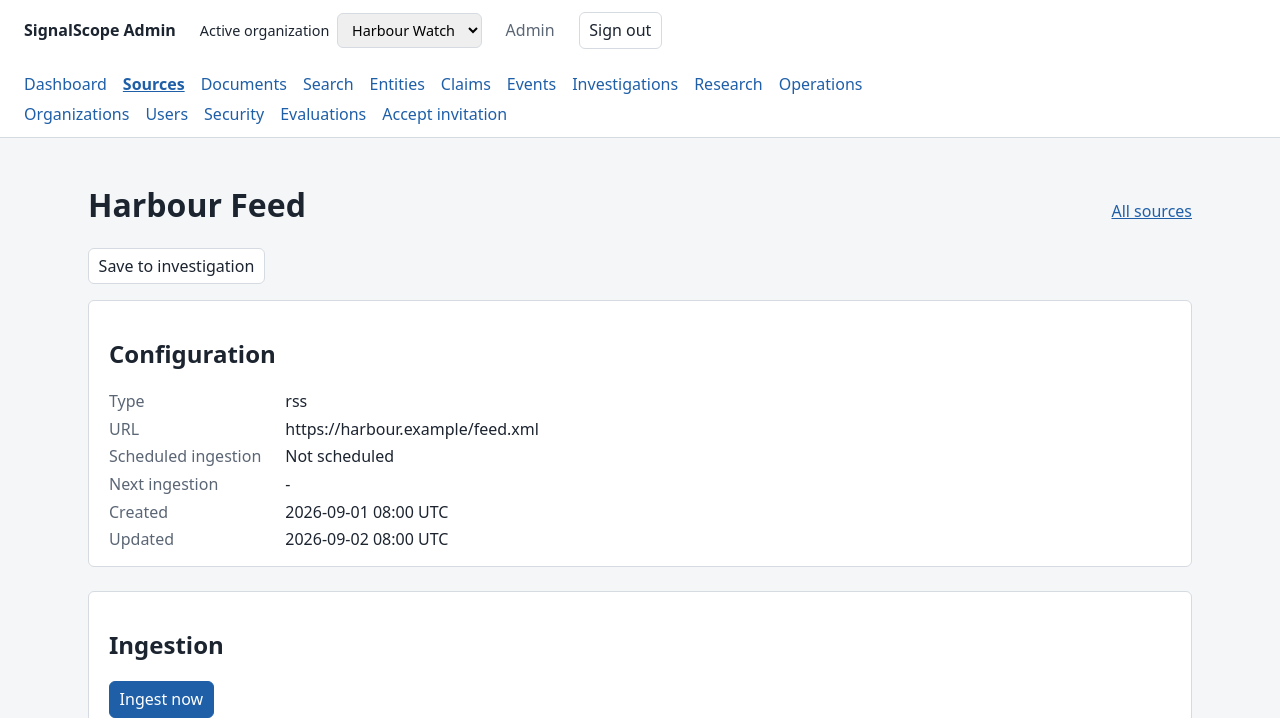
Scenario: save to investigation › saves from /sources/s-1
The image size is (1280, 718).
Click the button "Save to investigation".
click(176, 266)  # box [88,248,265,284]
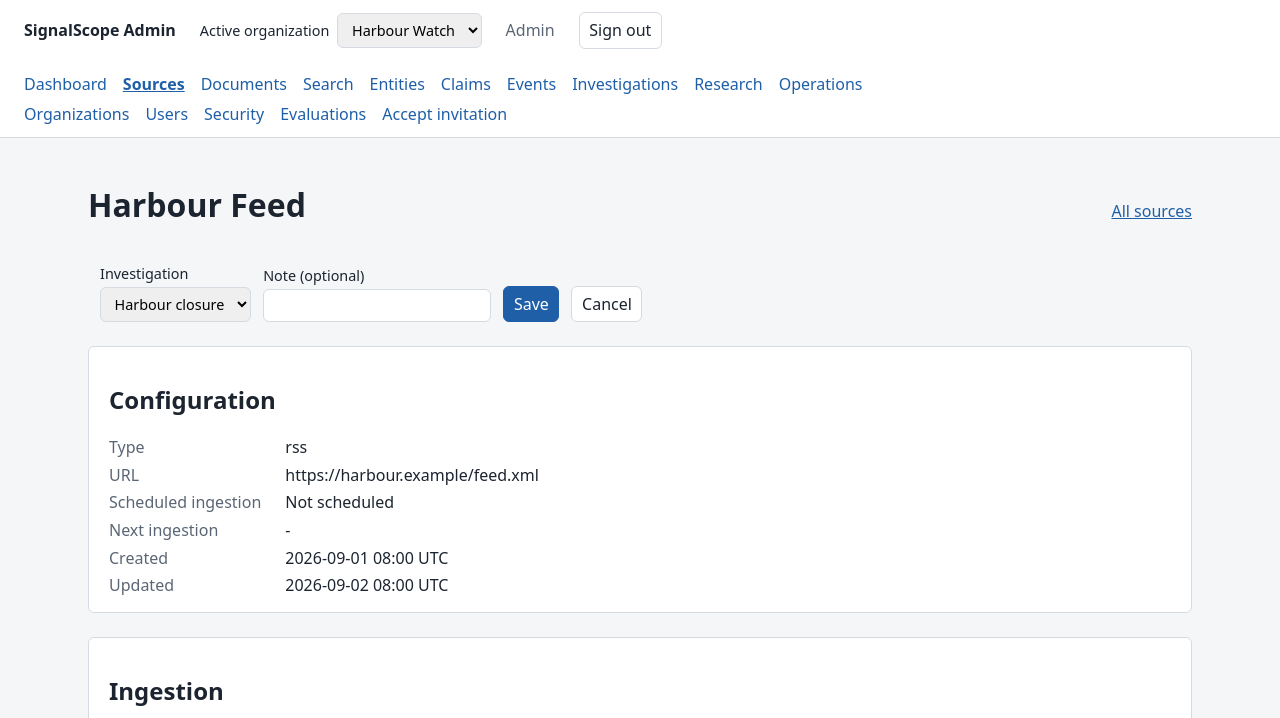
Type "Worth a look" into the field labelled "Note (optional)".
click(377, 306); type("Worth a look")  # box [263,289,491,322]
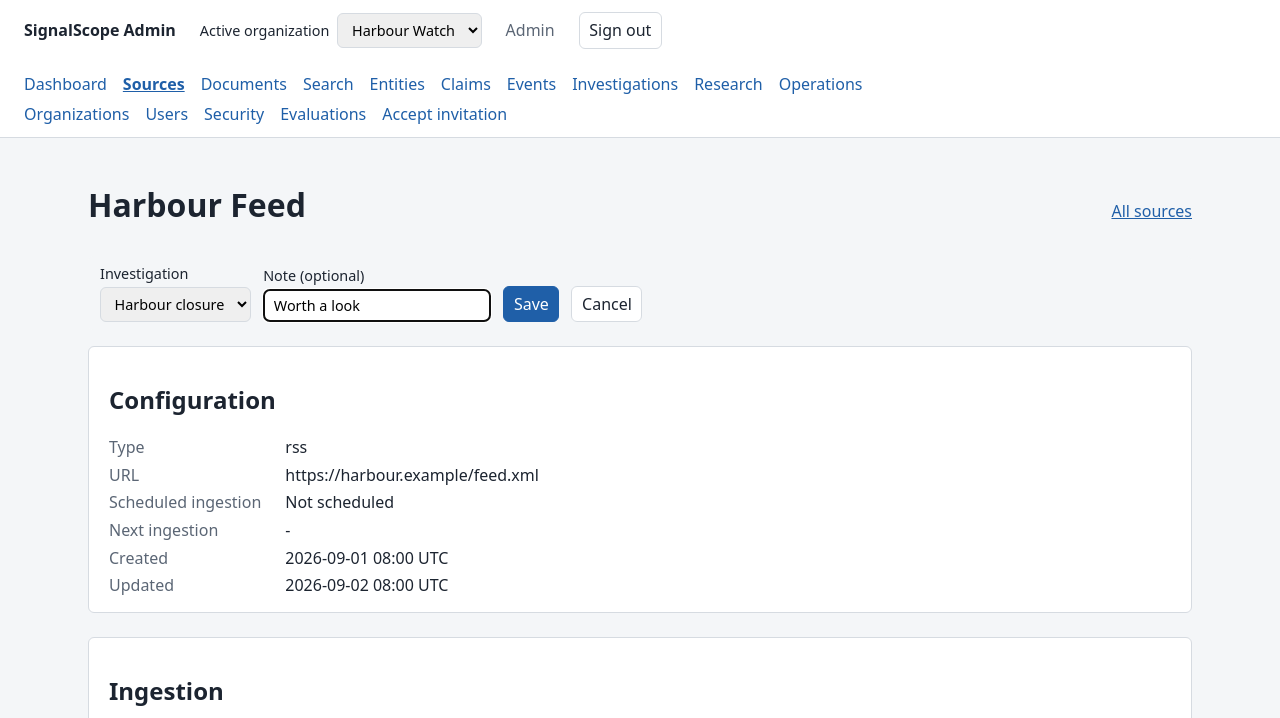
Click the button "Save".
click(531, 304)  # box [503,286,560,322]
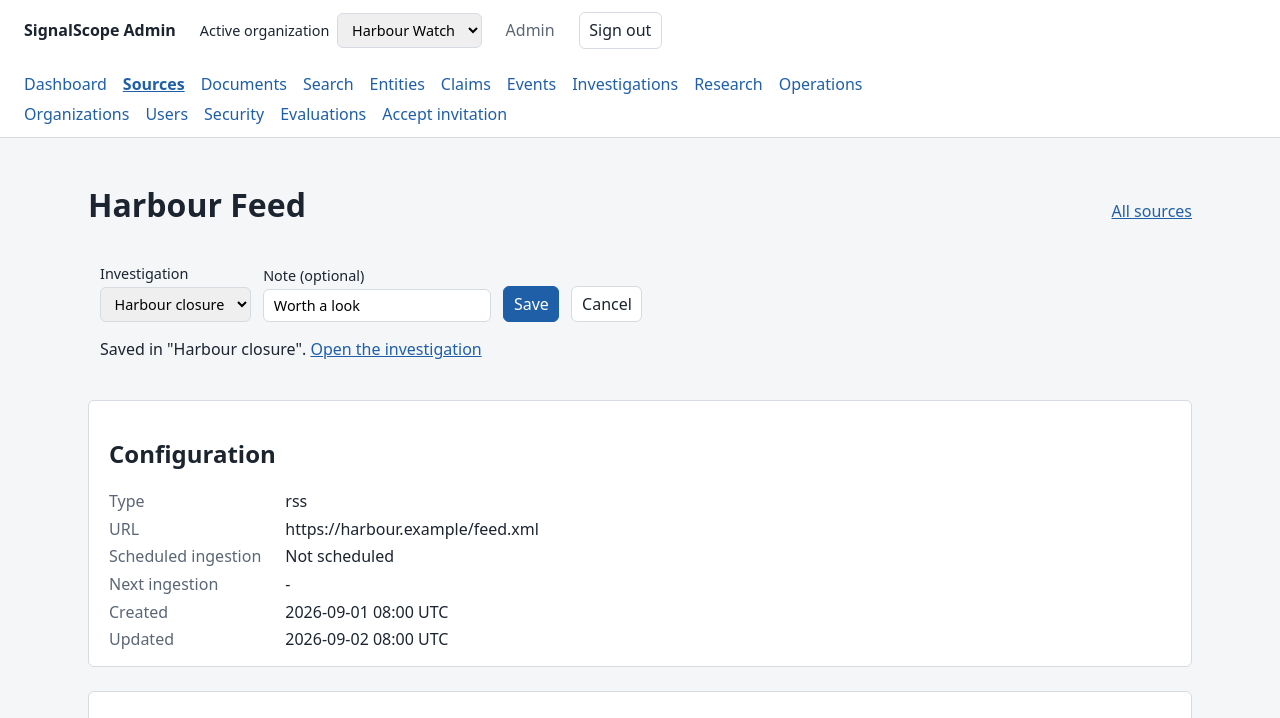
Now the message shows "Saved in \"Harbour closure\".", box [100,338,306,360]
